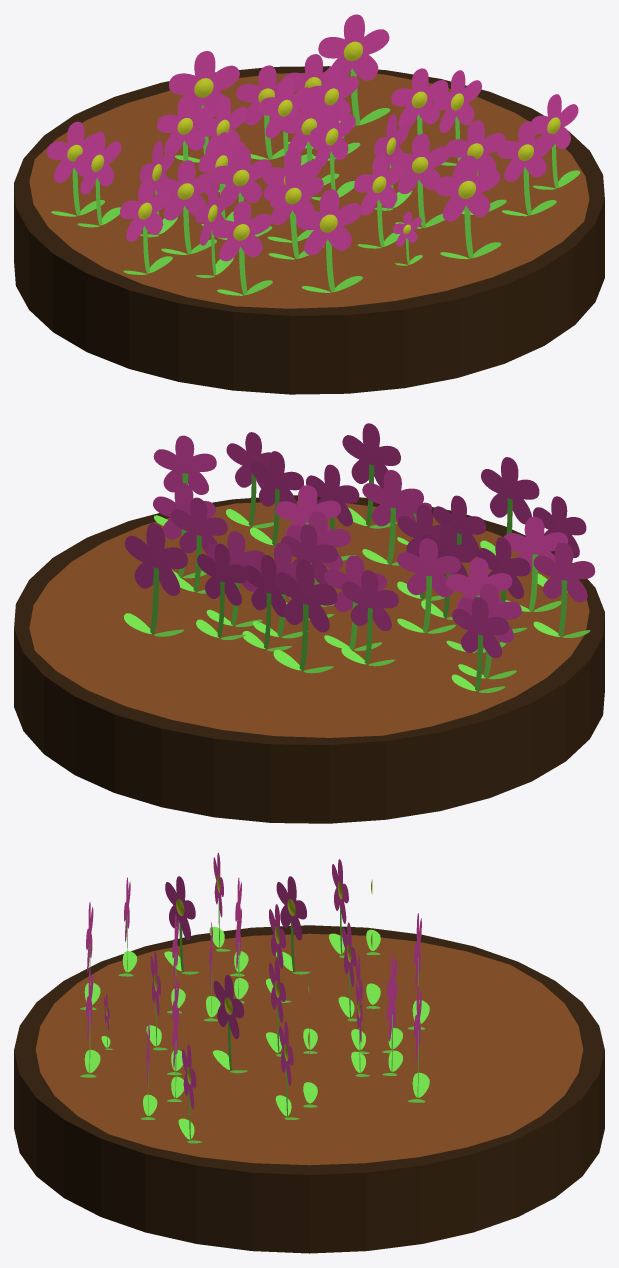
3 renders of one model, top to bottom at view 1: azimuth 30°, elevation 25°; view 2: azimuth 150°, elevation 25°; view 3: azimuth 270°, elevation 25°, orthographic.
Visible parts, largest first — view 1: 円柱, 平面.001, 平面.009, 平面.011, 平面.010, 平面.027, 平面.016, 平面.012, 平面.022, 平面.007, 平面.008, 平面.021 (+22 smaller); view 2: 平面.001, 円柱, 平面.012, 平面.011, 平面.002, 平面.021, 平面.018, 平面.017, 平面.009, 平面.006, 平面.010, 平面.029 (+21 smaller); view 3: 平面.001, 円柱, 平面.014, 平面.024, 平面.028, 平面.004, 平面.019, 平面.015, 平面.013, 平面.023, 平面.011, 平面.021 (+10 smaller).
Boxes of the visible parts, <box> form: 円柱: <box>14,66,604,394</box>; 平面.001: <box>29,72,589,308</box>; 平面.009: <box>434,155,501,259</box>; 平面.011: <box>318,14,390,126</box>; 平面.010: <box>296,189,362,292</box>; 平面.027: <box>212,201,272,295</box>; 平面.016: <box>497,121,556,216</box>; 平面.012: <box>169,51,239,162</box>; 平面.022: <box>156,160,216,254</box>; 平面.007: <box>390,134,450,228</box>; 平面.008: <box>263,164,324,259</box>; 平面.021: <box>120,179,172,274</box>; 平面.001: <box>29,501,589,737</box>; 円柱: <box>14,495,604,823</box>; 平面.012: <box>273,559,337,673</box>; 平面.011: <box>124,523,187,636</box>; 平面.002: <box>397,538,460,633</box>; 平面.021: <box>533,542,595,637</box>; 平面.018: <box>341,570,398,666</box>; 平面.017: <box>451,597,508,692</box>; 平面.009: <box>342,423,400,528</box>; 平面.006: <box>362,470,423,565</box>; 平面.010: <box>480,457,539,555</box>; 平面.029: <box>196,543,248,639</box>; 平面.001: <box>35,933,583,1165</box>; 円柱: <box>14,925,604,1253</box>; 平面.014: <box>212,975,247,1073</box>; 平面.024: <box>276,876,310,974</box>; 平面.028: <box>164,876,199,974</box>; 平面.004: <box>266,958,285,1056</box>; 平面.019: <box>329,859,348,957</box>; 平面.015: <box>178,1044,202,1143</box>; 平面.013: <box>275,1021,299,1119</box>; 平面.023: <box>338,922,356,1021</box>; 平面.011: <box>408,985,429,1102</box>; 平面.021: <box>209,852,230,951</box>.
Size of the model in its own units: 594 by 211 by 594.
